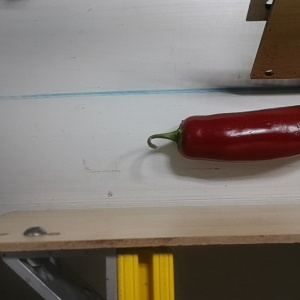Cut Point: (168, 114, 199, 161)
